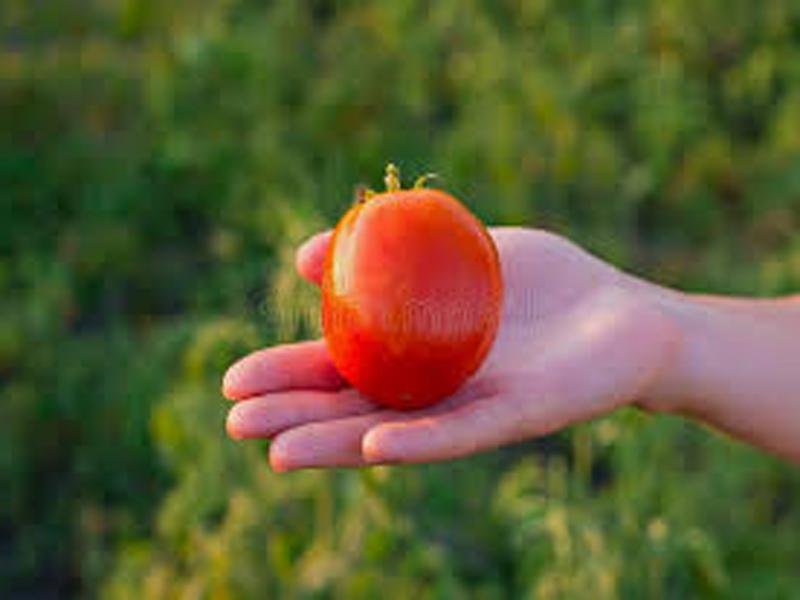Tomato: (324, 190, 500, 413)
